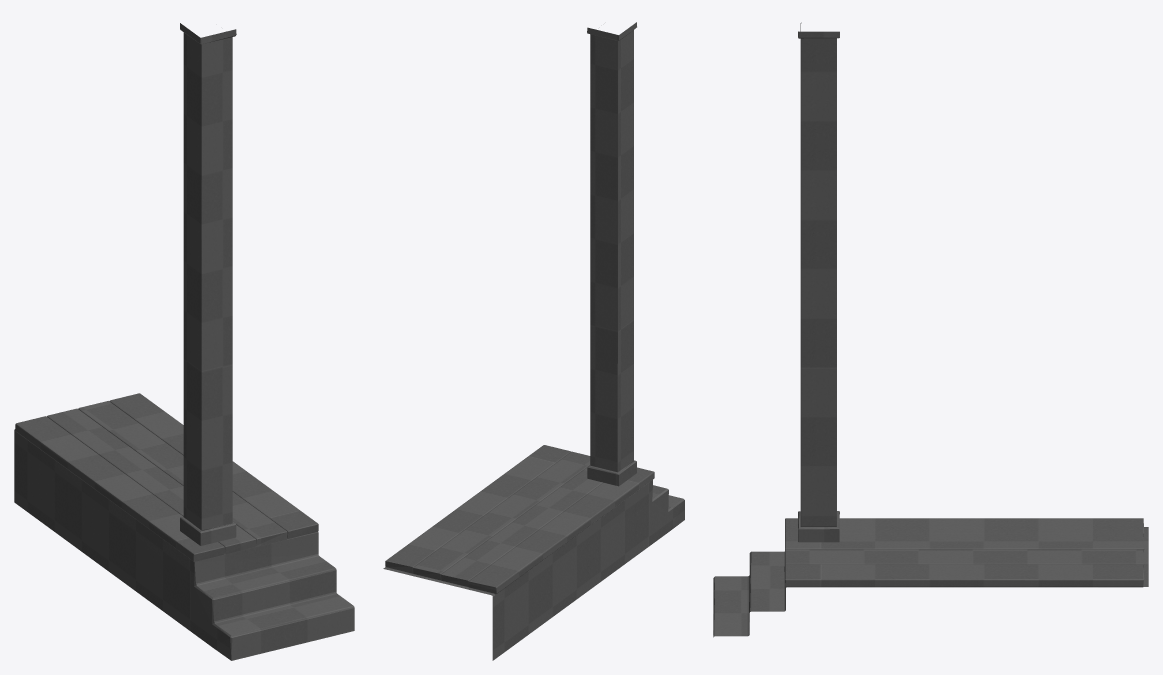
The model's file is SM_House_FrontStairs_A_LFT.glb.
The picture shows the model from 3 angles, left to right: view 1: azimuth 30°, elevation 25°; view 2: azimuth 150°, elevation 25°; view 3: azimuth 270°, elevation 25°; orthographic projection. The views are drawn at different scales.
Parts seen in each view (by area): view 1: SM_House_FrontStairs_A_LFT; view 2: SM_House_FrontStairs_A_LFT; view 3: SM_House_FrontStairs_A_LFT.
Boxes of the visible parts, x1,y1,x2,y2 form: SM_House_FrontStairs_A_LFT: (14,23,354,660); SM_House_FrontStairs_A_LFT: (383,22,684,660); SM_House_FrontStairs_A_LFT: (713,22,1148,637).
Size of the model in its own units: 80.07 by 360 by 240.
Materials: 1 (1 with a texture image).
